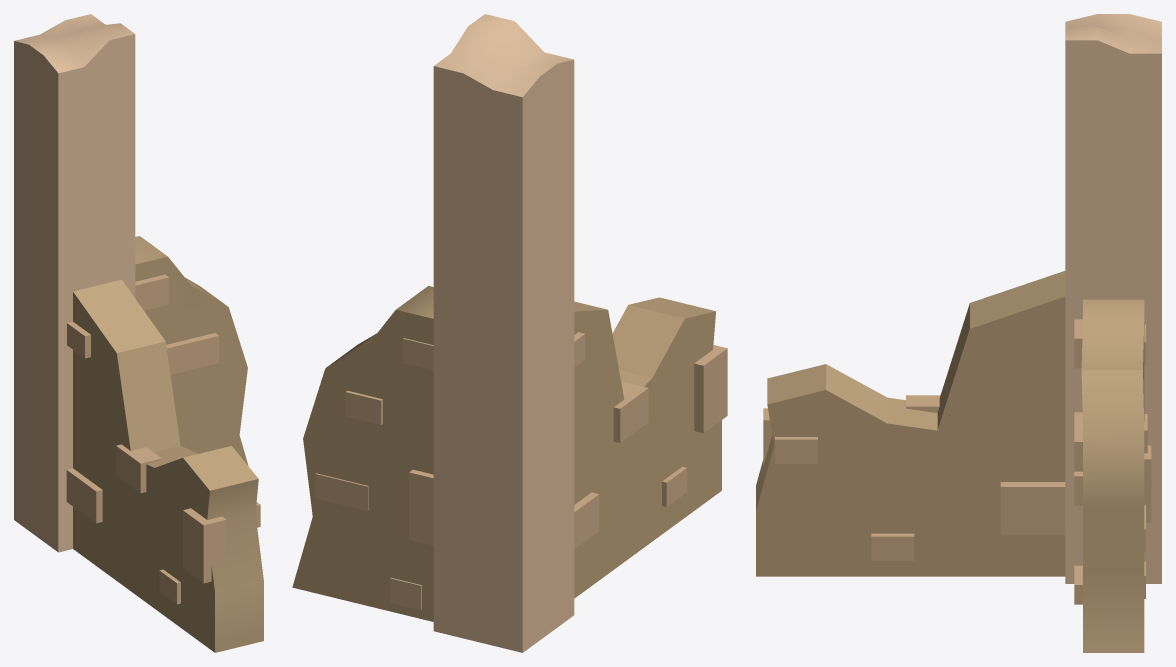
File: Ruin 2.fbx
3 renders of one model, left to right at view 1: azimuth 30°, elevation 25°; view 2: azimuth 150°, elevation 25°; view 3: azimuth 270°, elevation 25°, orthographic. The views are drawn at different scales.
Visible parts, largest first — view 1: Cube.021; view 2: Cube.021; view 3: Cube.021.
Part boxes in pixels (<box>): Cube.021: <box>14,14,263,652</box>; Cube.021: <box>292,14,727,652</box>; Cube.021: <box>756,14,1161,652</box>.
Size of the model in its own units: 179 by 414 by 280.
